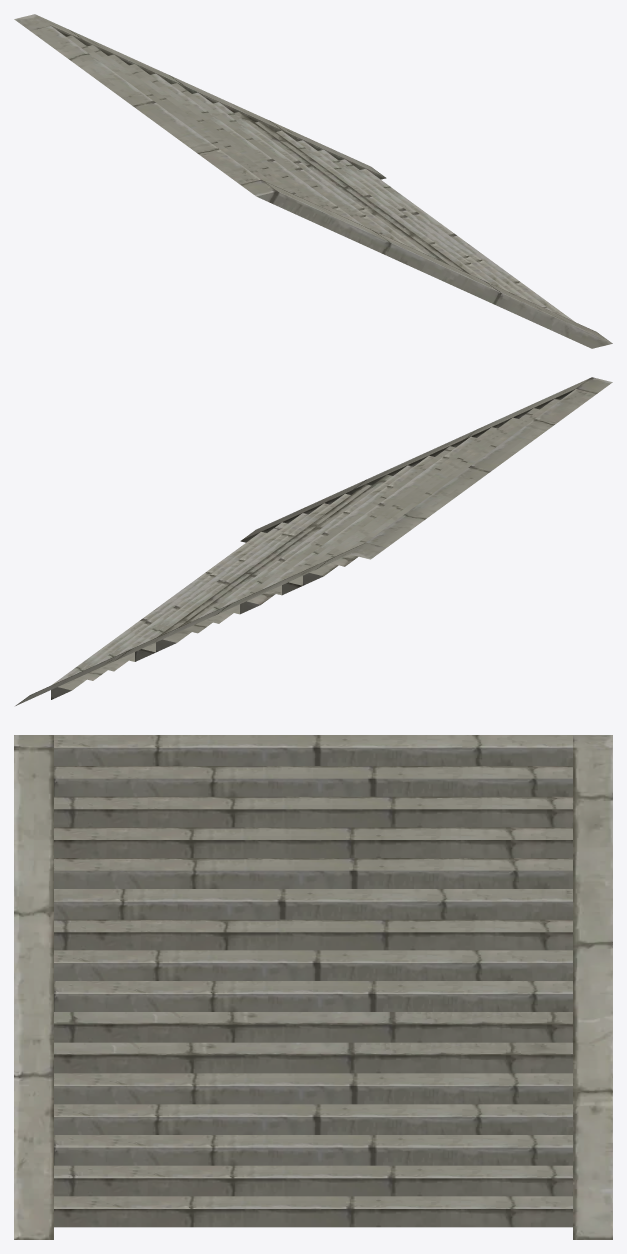
The picture shows the model from 3 angles, top to bottom: view 1: azimuth 30°, elevation 25°; view 2: azimuth 150°, elevation 25°; view 3: azimuth 270°, elevation 25°; orthographic projection. The views are drawn at different scales.
Parts seen in each view (by area): view 1: body0_model0_lod0_mesh0; view 2: body0_model0_lod0_mesh0; view 3: body0_model0_lod0_mesh0.
Part boxes in pixels (left/top/right/bottom): body0_model0_lod0_mesh0: left=14, top=14, right=612, bottom=348; body0_model0_lod0_mesh0: left=15, top=377, right=612, bottom=705; body0_model0_lod0_mesh0: left=14, top=735, right=612, bottom=1239.
Size of the model in its own units: 204 by 128 by 240.
Materials: 1 (1 with a texture image).
